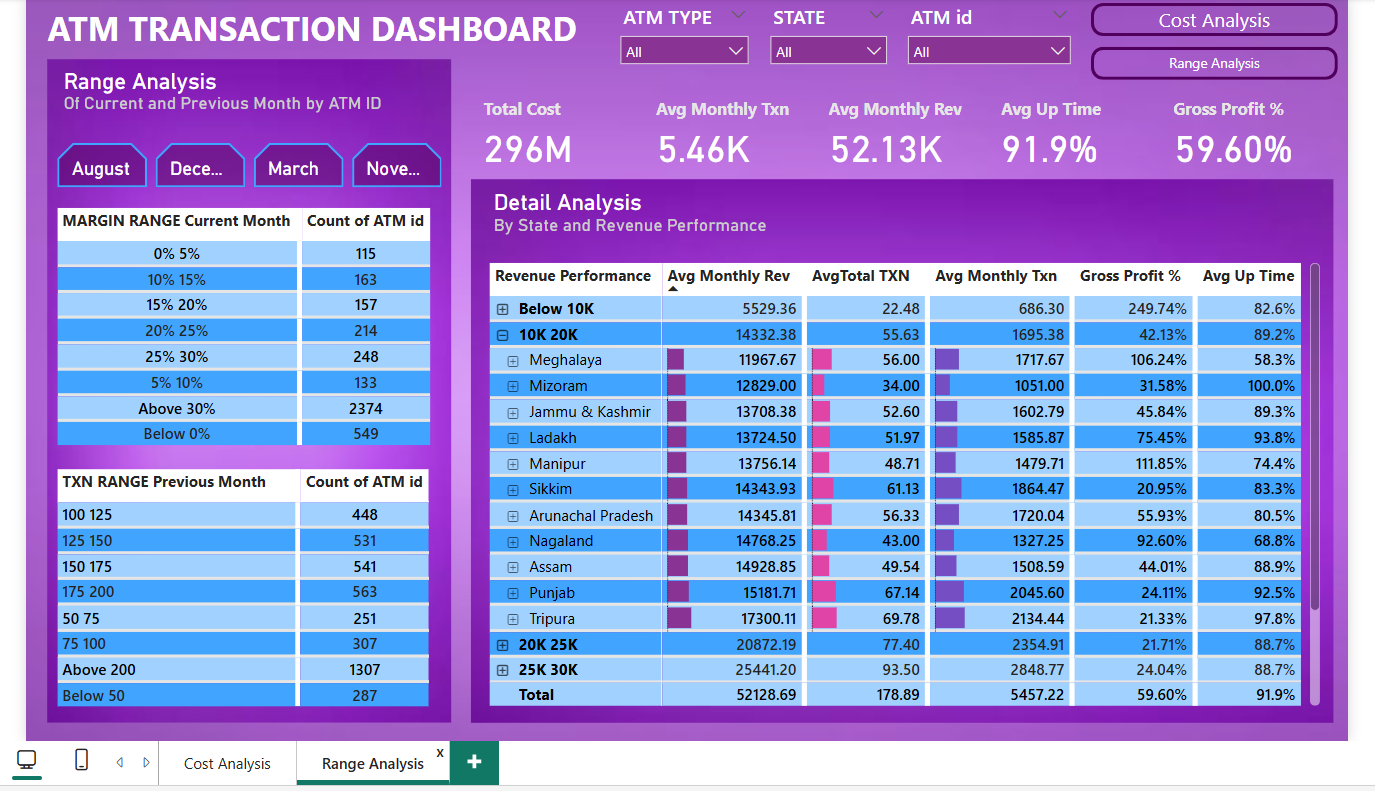

The page's visual inventory and layout, read from the dashboard file:
{"tool":"powerbi","page":{"name":"Range Analysis","canvas":[1280,720],"ordinal":1},"visuals":[{"type":"slicer","fields":{"Values":["ATM_Transaction_Data.ATM TYPE"]},"box":[565.4,0,144.6,79.5],"z":0,"group":"g1"},{"type":"image","box":[15.7,54.5,400.7,652.5],"z":0},{"type":"image","box":[426.1,170.7,844.9,536.3],"z":1000},{"type":"textbox","box":[15.7,2.4,539.9,52.1],"z":2000},{"type":"tableEx","fields":{"Values":["ATM_Transaction_Data.MARGIN RANGE Current Month","ATM_Transaction_Data.ATM id"]},"box":[24.2,198.5,384.9,240.9],"z":3000},{"type":"tableEx","fields":{"Values":["ATM_Transaction_Data.TXN RANGE Previous Month","ATM_Transaction_Data.ATM id"]},"box":[24.2,451.5,383.7,246.9],"z":4000},{"type":"pivotTable","fields":{"Rows":["ATM_Transaction_Data.Revenue Performance","ATM_Transaction_Data.STATE","ATM_Transaction_Data.ATM id"],"Values":["Avg(ATM_Transaction_Data.Monthly Rev)","Avg(ATM_Transaction_Data.AVG Total TXN)","Avg(ATM_Transaction_Data.Monthly Txn)","ATM_Transaction_Data.Gross Profit Percentage","Avg(ATM_Transaction_Data.Up Time)"]},"box":[444.3,251.8,813.5,438.2],"z":5000},{"type":"textbox","box":[31.5,62.9,384.9,62.9],"z":6000},{"type":"advancedSlicerVisual","fields":{"Values":["ATM_Transaction_Data.Month"]},"box":[25.4,135.6,383.7,53.3],"z":7000},{"type":"textbox","box":[447.9,180.4,384.9,62.9],"z":8000},{"type":"cardVisual","fields":{"Data":["Sum(ATM_Transaction_Data. Total Cost  )","Avg(ATM_Transaction_Data.Monthly Txn)","Avg(ATM_Transaction_Data.Monthly Rev)","Avg(ATM_Transaction_Data.Up Time)","ATM_Transaction_Data.Gross Profit Percentage"]},"box":[426.1,78.7,841.3,94.4],"z":9000},{"type":"pageNavigator","box":[1031.3,4.8,239.7,75.1],"z":10000},{"type":"slicer","fields":{"Values":["ATM_Transaction_Data.STATE"]},"box":[710,0,133,79.5],"z":11000},{"type":"group","id":"g1","title":"SLICERS","box":[565.4,0,144.6,79.5],"z":12000},{"type":"slicer","fields":{"Values":["ATM_Transaction_Data.ATM id"]},"box":[843.7,0,177.9,79.9],"z":13000}]}

Visuals, with their boxes on the page's 1280x720 design canvas (x1, y1, x2, y2). These are canvas units, not pixel positions in the 1375x791 screenshot, which may show the page scaled, cropped or inside an application window:
slicer - ATM_Transaction_Data.ATM TYPE: (565, 0, 710, 80)
image: (16, 54, 416, 707)
image: (426, 171, 1271, 707)
textbox: (16, 2, 556, 54)
tableEx - ATM_Transaction_Data.MARGIN RANGE Current Month x ATM_Transaction_Data.ATM id: (24, 198, 409, 439)
tableEx - ATM_Transaction_Data.TXN RANGE Previous Month x ATM_Transaction_Data.ATM id: (24, 452, 408, 698)
pivotTable - ATM_Transaction_Data.Revenue Performance x ATM_Transaction_Data.STATE: (444, 252, 1258, 690)
textbox: (32, 63, 416, 126)
advancedSlicerVisual - ATM_Transaction_Data.Month: (25, 136, 409, 189)
textbox: (448, 180, 833, 243)
cardVisual - Sum(ATM_Transaction_Data. Total Cost  ) x Avg(ATM_Transaction_Data.Monthly Txn): (426, 79, 1267, 173)
pageNavigator: (1031, 5, 1271, 80)
slicer - ATM_Transaction_Data.STATE: (710, 0, 843, 80)
"SLICERS" group: (565, 0, 710, 80)
slicer - ATM_Transaction_Data.ATM id: (844, 0, 1022, 80)
